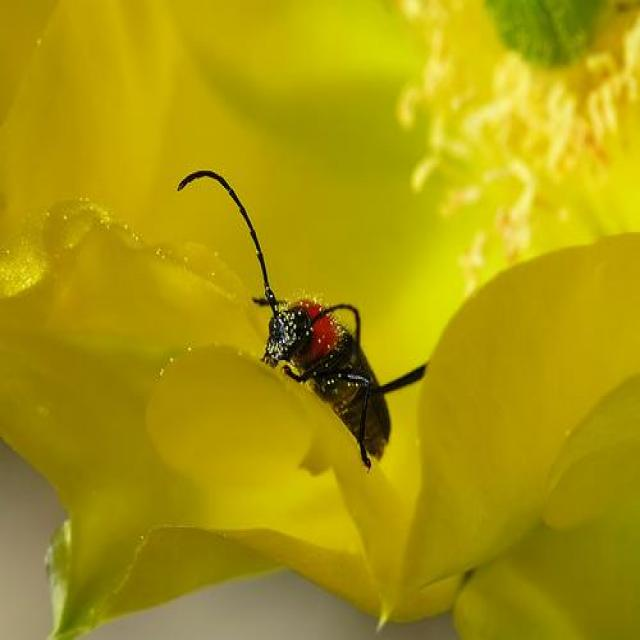BlisterBeetle-Adult-: (171, 162, 444, 485)
